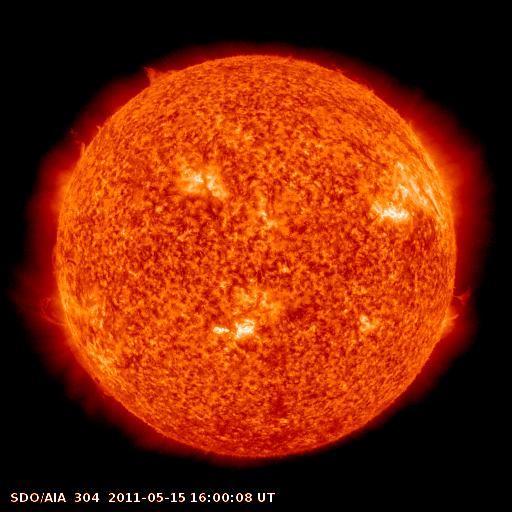prominence: (64, 335, 116, 409), (63, 112, 102, 162), (132, 57, 183, 91), (434, 282, 479, 317)
